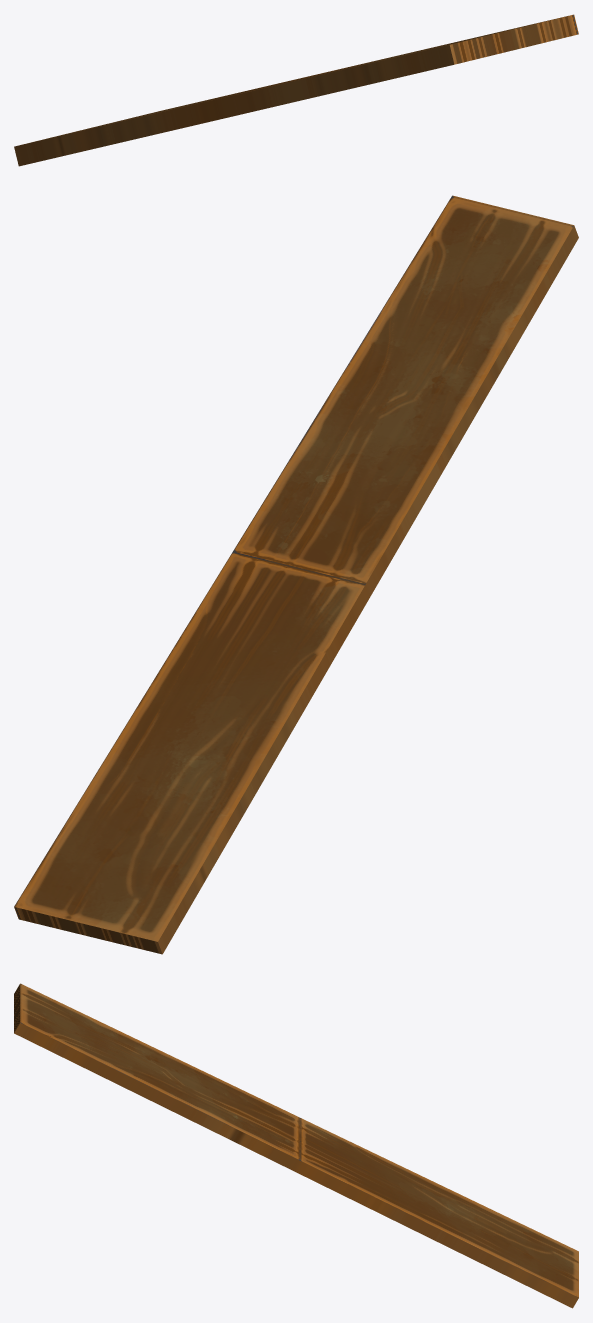
3 views of the same model, one above another, from view 1: azimuth 30°, elevation 25°; view 2: azimuth 150°, elevation 25°; view 3: azimuth 270°, elevation 25° (orthographic). The views are drawn at different scales.
Visible parts, largest first — view 1: Cube.914; view 2: Cube.914; view 3: Cube.914.
Boxes of the visible parts, x1,y1,x2,y2 form: Cube.914: [14, 14, 578, 166]; Cube.914: [14, 195, 578, 954]; Cube.914: [14, 983, 578, 1308].
Size of the model in its own units: 134 by 377 by 688.
1 material, 1 textured.
